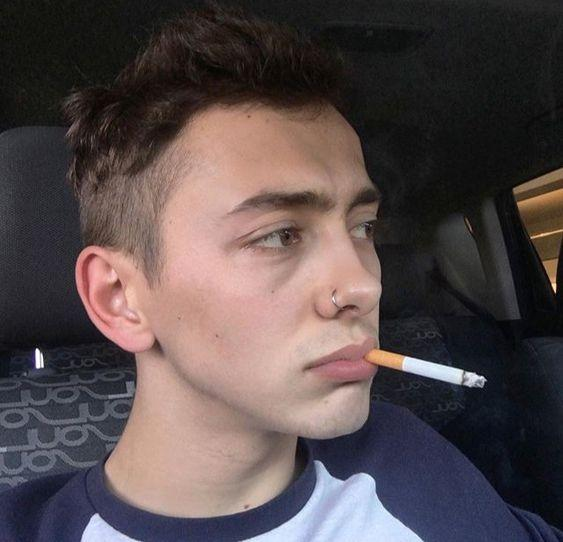cigarette: (363, 348, 487, 388)
